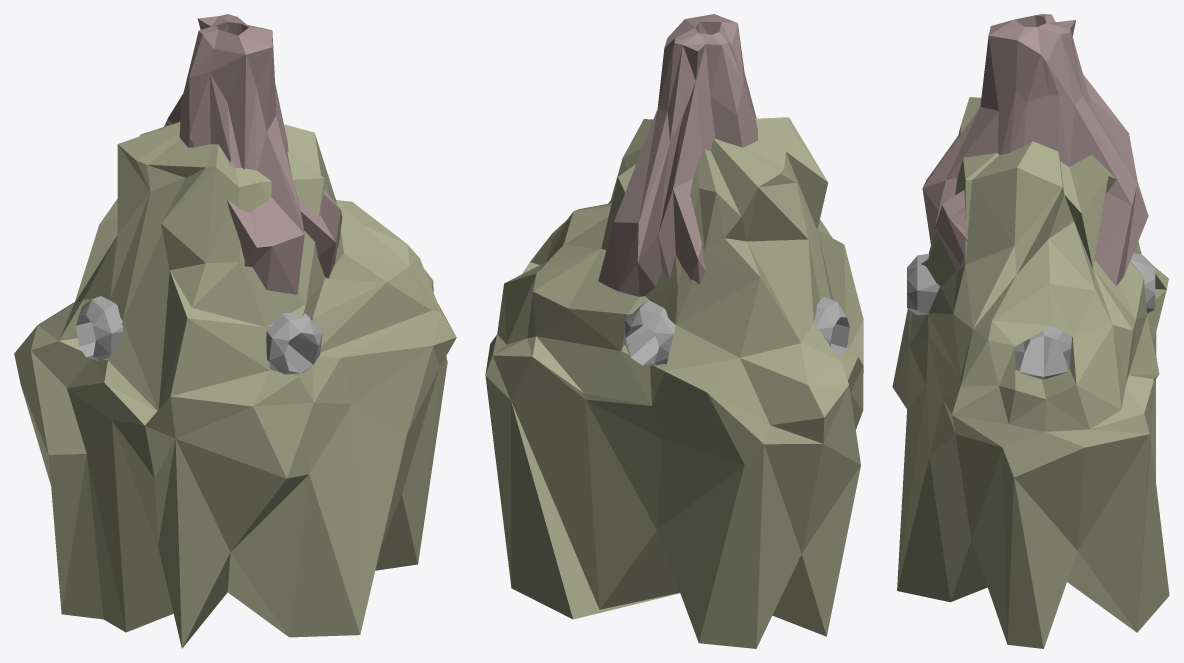
Rendered from MountainCrossroad.fbx.
3 renders of one model, left to right at view 1: azimuth 30°, elevation 25°; view 2: azimuth 150°, elevation 25°; view 3: azimuth 270°, elevation 25°, orthographic. The views are drawn at different scales.
Visible parts, largest first — view 1: MountainBase, MountainTop, MountainTunnel; view 2: MountainBase, MountainTop, MountainTunnel; view 3: MountainBase, MountainTop, MountainTunnel.
Part boxes in pixels (bbox=[...]): MountainBase: bbox=[14, 121, 456, 648]; MountainTop: bbox=[164, 14, 342, 294]; MountainTunnel: bbox=[76, 296, 322, 374]; MountainBase: bbox=[485, 117, 863, 648]; MountainTop: bbox=[598, 14, 757, 364]; MountainTunnel: bbox=[623, 297, 849, 365]; MountainBase: bbox=[892, 97, 1169, 648]; MountainTop: bbox=[922, 14, 1148, 370]; MountainTunnel: bbox=[907, 253, 1155, 379].
Size of the model in its own units: 13.65 by 19.63 by 9.07.
